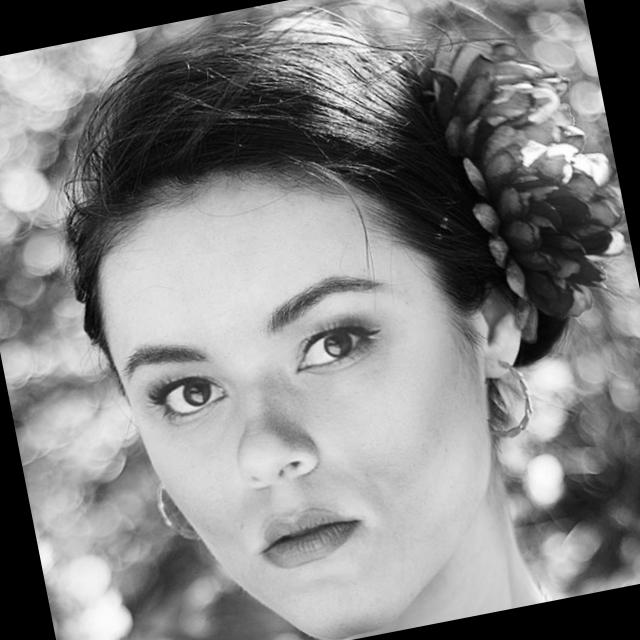face: (44, 89, 597, 640)
